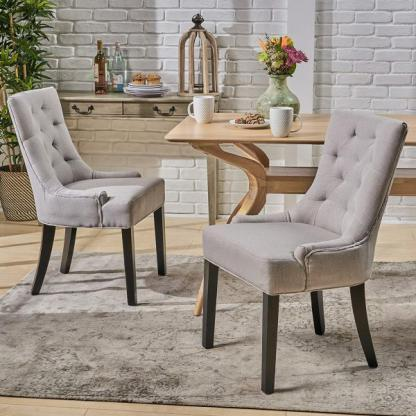chair: (199, 109, 416, 411), (7, 79, 170, 319)
table: (162, 103, 416, 321), (4, 80, 229, 232)
